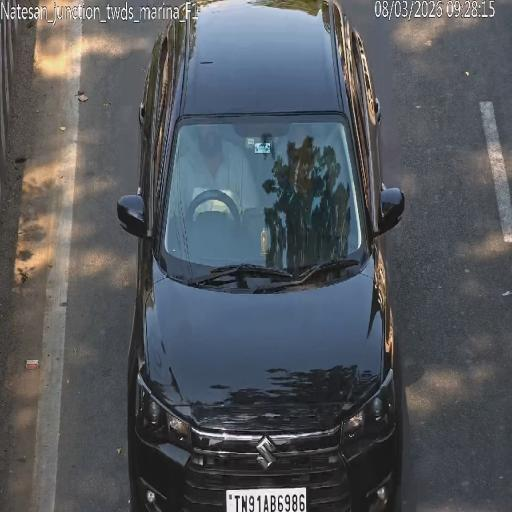person_with_seatbelt: (182, 131, 214, 208), (307, 126, 342, 181)
